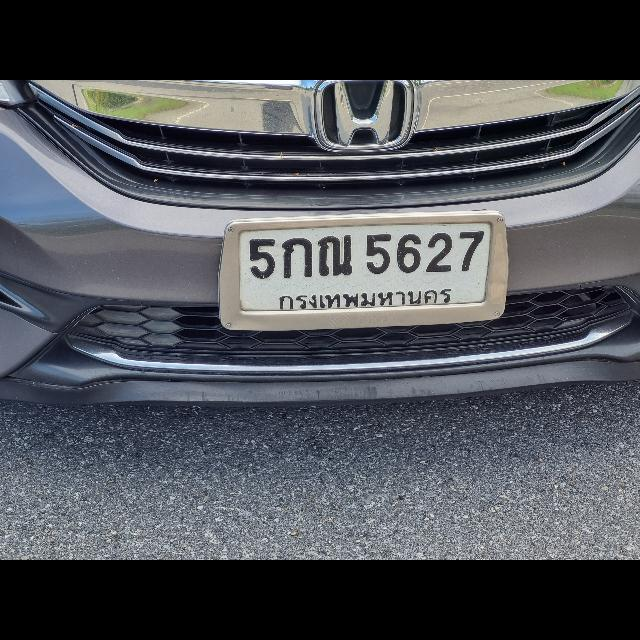licenseplate: (218, 213, 510, 331)
